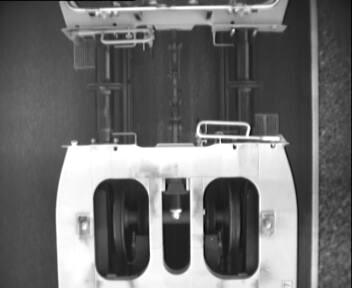twist_lock_2: (84, 168, 270, 286)
